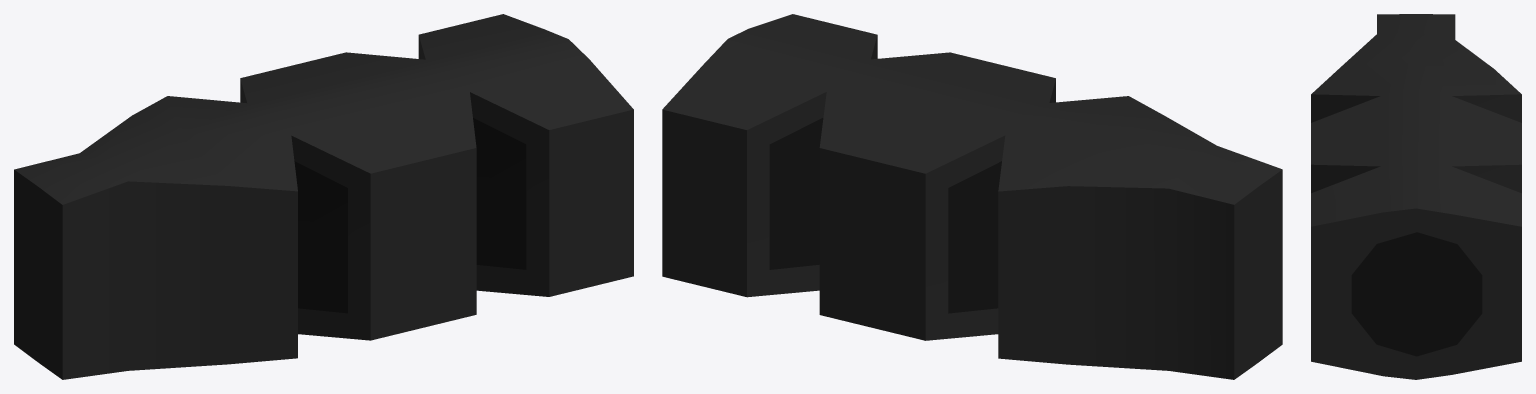
File: Accesories_muzzlebrake_A_V2.FBX
The picture shows the model from 3 angles, left to right: view 1: azimuth 30°, elevation 25°; view 2: azimuth 150°, elevation 25°; view 3: azimuth 270°, elevation 25°; orthographic projection. The views are drawn at different scales.
Visible parts, largest first — view 1: Accesories_muzzlebrake_A_V2; view 2: Accesories_muzzlebrake_A_V2; view 3: Accesories_muzzlebrake_A_V2.
Boxes of the visible parts, bbox=[...] form: Accesories_muzzlebrake_A_V2: bbox=[14, 14, 633, 379]; Accesories_muzzlebrake_A_V2: bbox=[662, 14, 1282, 379]; Accesories_muzzlebrake_A_V2: bbox=[1311, 14, 1521, 379].
Size of the model in its own units: 53.88 by 20.6 by 22.95.
